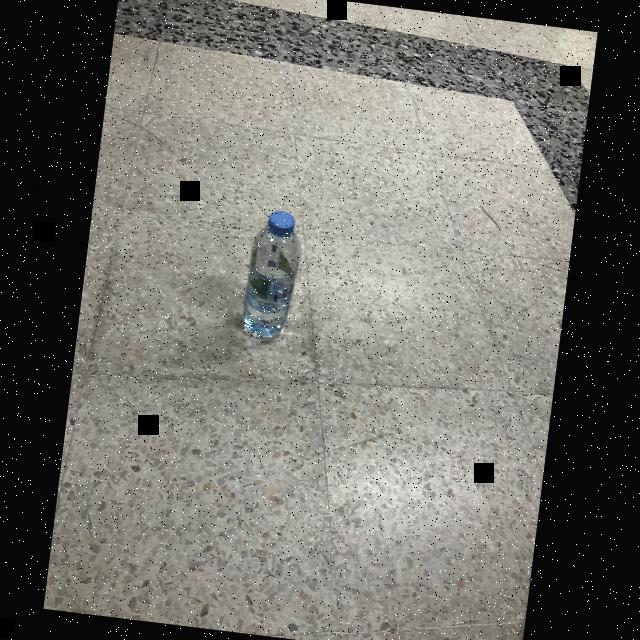plastic_bottle: (240, 208, 306, 344)
plastic_bottle_cap: (265, 208, 298, 237)
